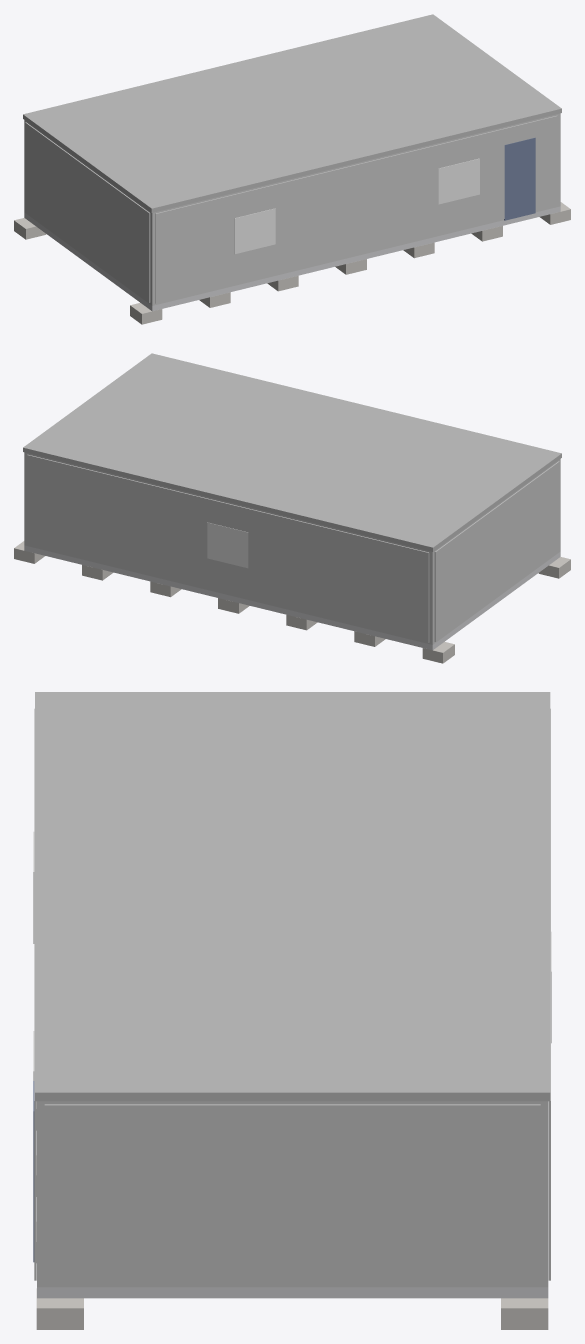
File: Studio-40-Base-LightGrey-LOD2.glb
The picture shows the model from 3 angles, top to bottom: view 1: azimuth 30°, elevation 25°; view 2: azimuth 150°, elevation 25°; view 3: azimuth 270°, elevation 25°; orthographic projection. The views are drawn at different scales.
Parts seen in each view (by area): view 1: RoofMain, ExteriorPanelsStandard, BaseFrame, WindowsStandard, ExteriorShell, FoundationBlocks, EntryDoor; view 2: RoofMain, ExteriorPanelsStandard, BaseFrame, ExteriorShell, FoundationBlocks, WindowsStandard; view 3: RoofMain, ExteriorPanelsStandard, ExteriorShell, BaseFrame, FoundationBlocks.
Part boxes in pixels (x1=…): RoofMain: x1=23, y1=14, x2=561, y2=212; ExteriorPanelsStandard: x1=25, y1=115, x2=557, y2=303; BaseFrame: x1=24, y1=206, x2=560, y2=311; WindowsStandard: x1=234, y1=158, x2=479, y2=254; ExteriorShell: x1=24, y1=113, x2=560, y2=305; FoundationBlocks: x1=14, y1=202, x2=570, y2=324; EntryDoor: x1=504, y1=137, x2=535, y2=220; RoofMain: x1=23, y1=353, x2=561, y2=551; ExteriorPanelsStandard: x1=27, y1=454, x2=559, y2=642; BaseFrame: x1=24, y1=545, x2=560, y2=650; ExteriorShell: x1=24, y1=452, x2=560, y2=644; FoundationBlocks: x1=14, y1=541, x2=570, y2=663; WindowsStandard: x1=207, y1=522, x2=248, y2=568; RoofMain: x1=35, y1=692, x2=550, y2=1101; ExteriorPanelsStandard: x1=34, y1=708, x2=550, y2=1284; ExteriorShell: x1=37, y1=1101, x2=548, y2=1287; BaseFrame: x1=37, y1=1287, x2=548, y2=1298; FoundationBlocks: x1=36, y1=1101, x2=548, y2=1329.
Size of the model in its own units: 12.49 by 3.17 by 6.53.
